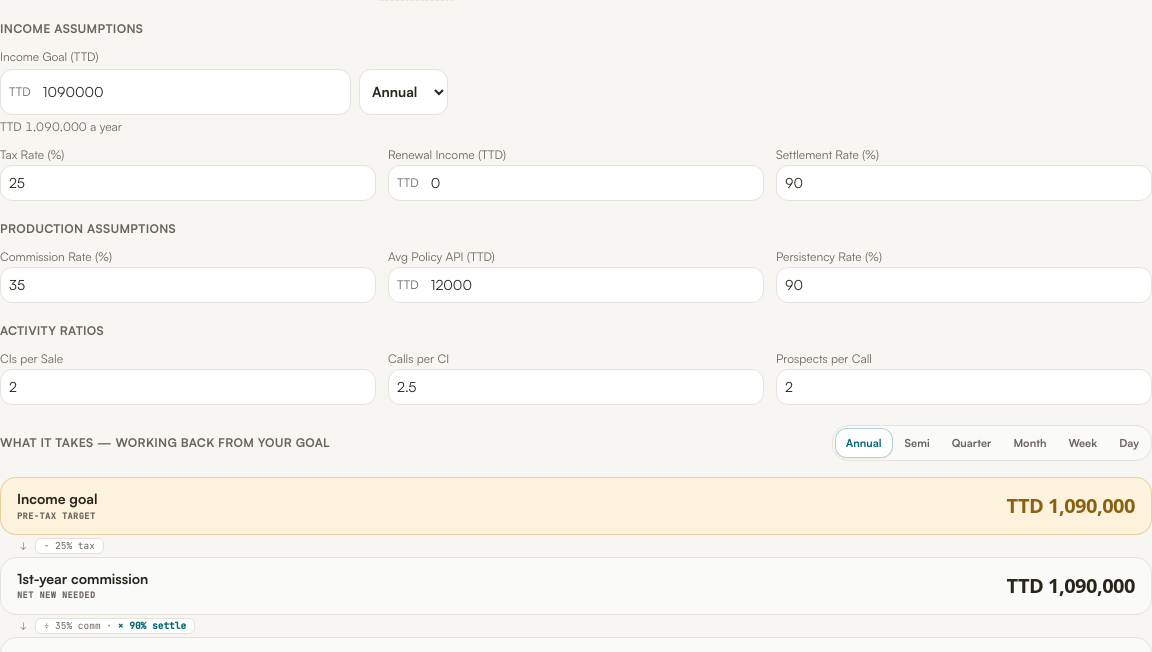
Scenario: GoalDecompositionTab — D5 parked RTL baseline › manually editing Income Goal clears the preTaxAlreadyApplied flag (confirm opens, apiToWrite reflects normal gross-up)
The width and height of the screenshot is (1152, 652).
// Manually override the field — flag must clear.
Replace the text in the number field labelled "Income Goal (TTD)" with "900000": {"x": 192, "y": 92} [35, 70, 350, 114]
(page scrolled)
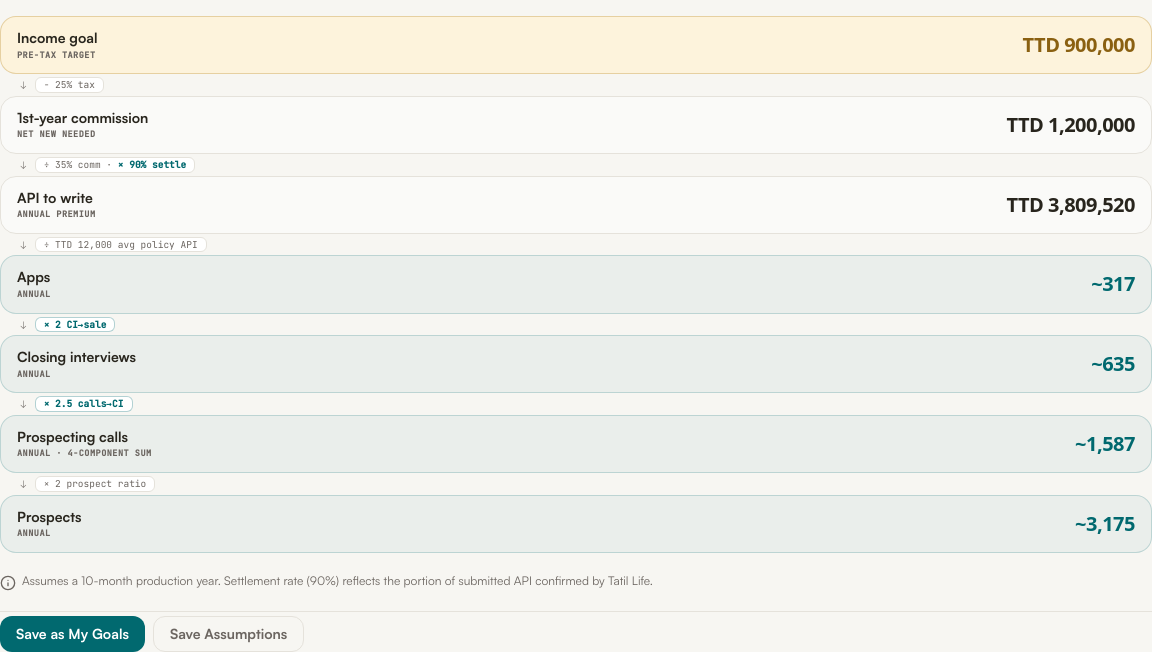
// Confirm dialog opens and shows a non-zero computed API (normal gross-up now active).
Click the button with test id "commission-save-goal-btn": {"x": 72, "y": 634} [0, 616, 145, 651]
(page scrolled)
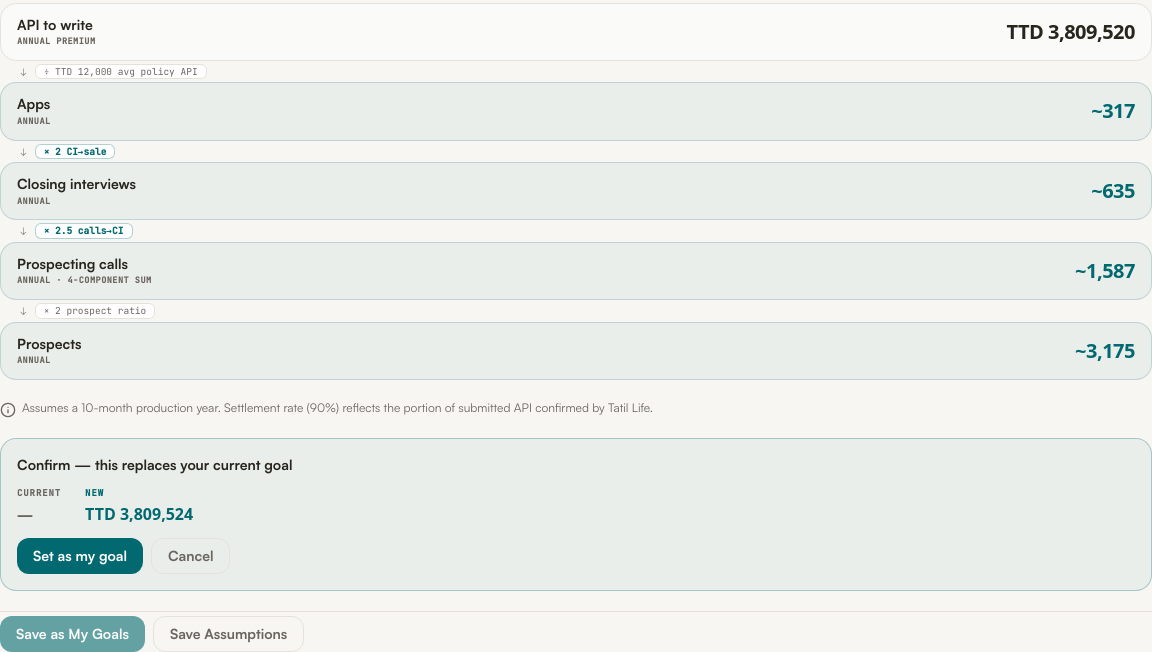
Now the element with test id "commission-confirm-dialog" is shown, box [0, 438, 1151, 591]
